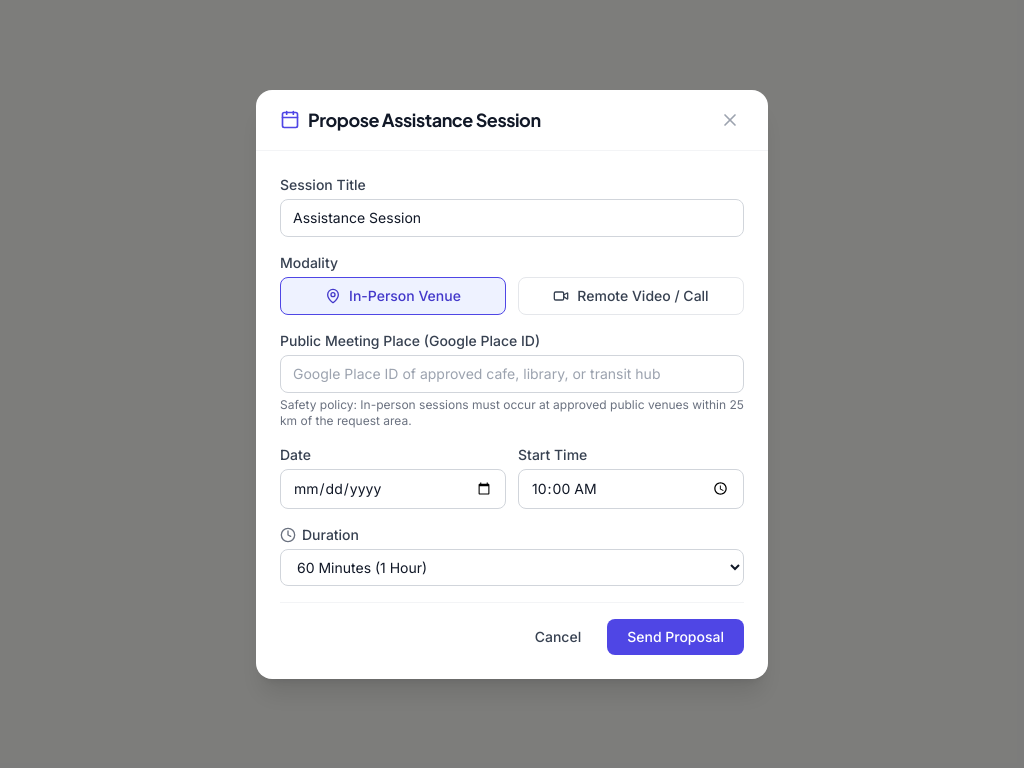
Test: Phase 14 — Sessions and Availability Frontend Components › 11. ProposeSessionModal enforces HTTPS meeting URL for remote modality
// Switch to Remote
Click the button "Remote Video / Call" at (631, 296), box top-left (518, 276), bottom-right (744, 314)
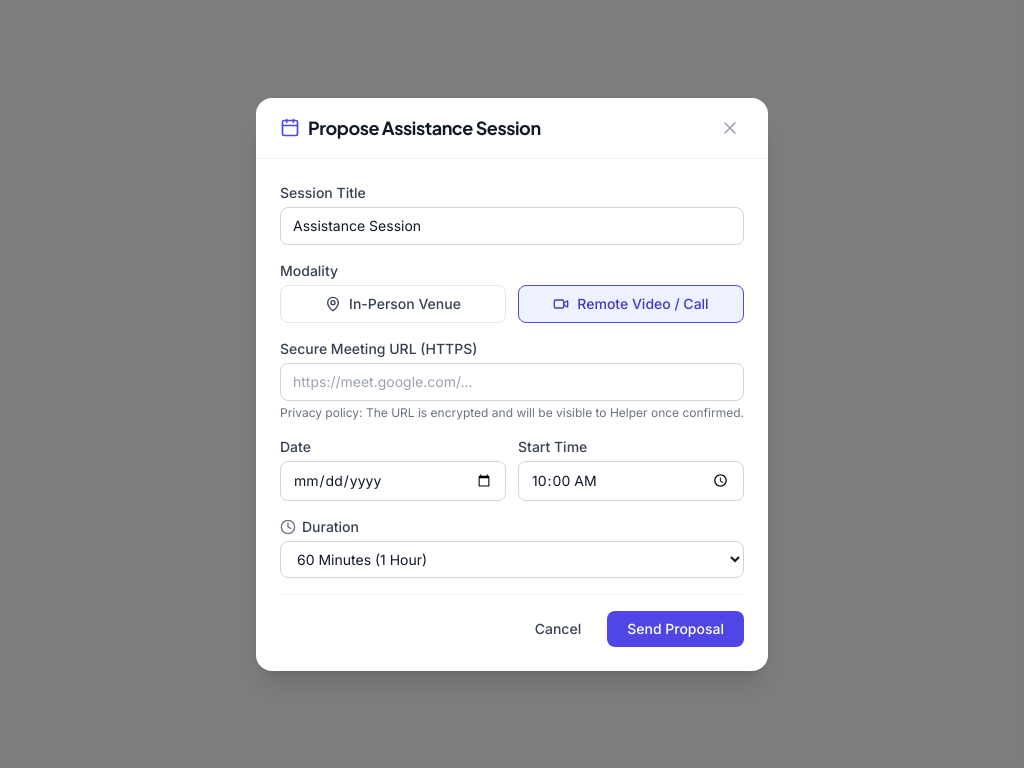
Type "2027-05-15" into the date field labelled "Date" at (393, 480), box top-left (280, 460), bottom-right (506, 500)
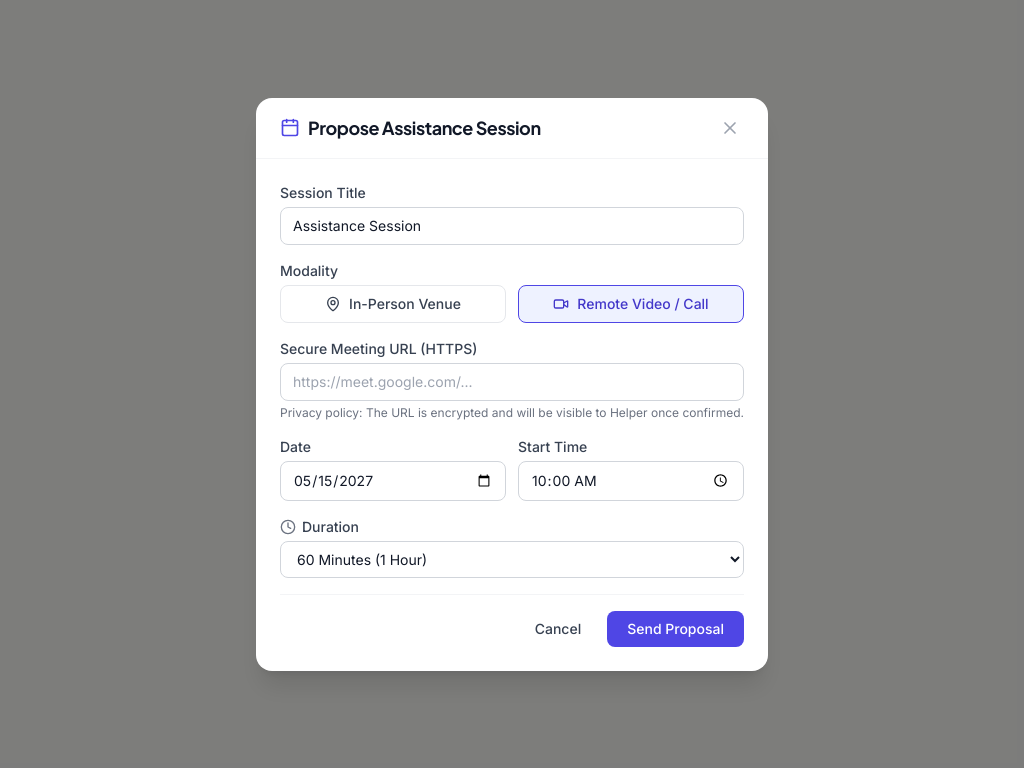
Type "http://insecure.test/meet" into the field with placeholder "https://meet.google.com/..." at (512, 382), box top-left (280, 362), bottom-right (744, 400)
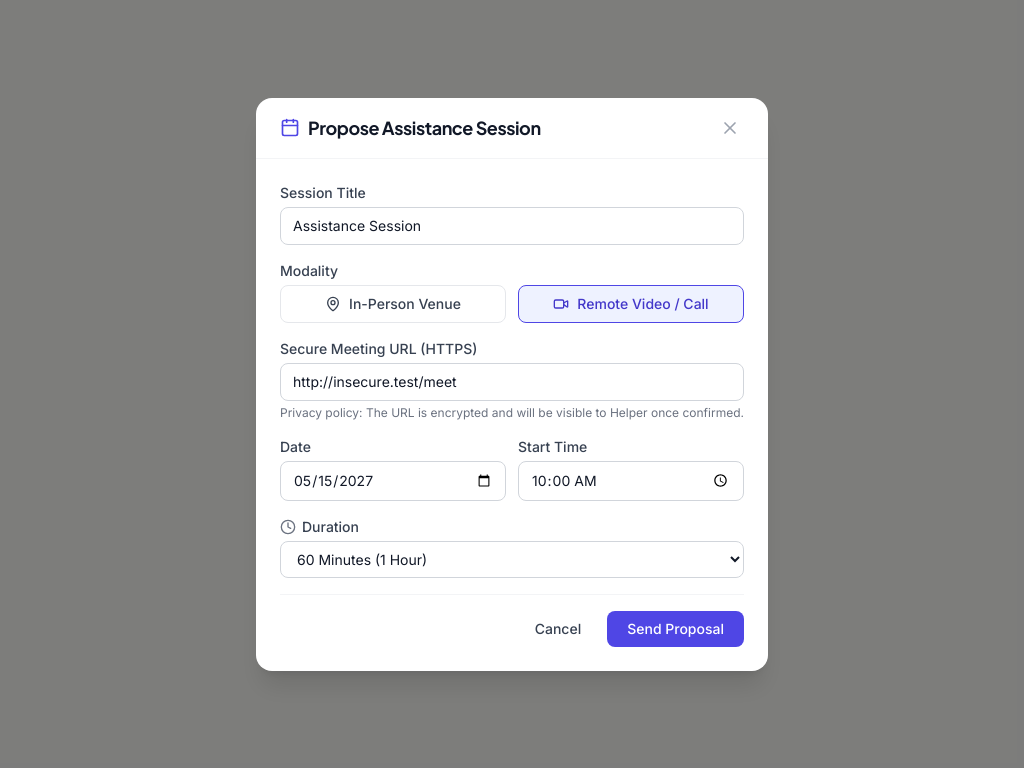
Click the button "Send Proposal" at (676, 628), box top-left (607, 610), bottom-right (744, 646)
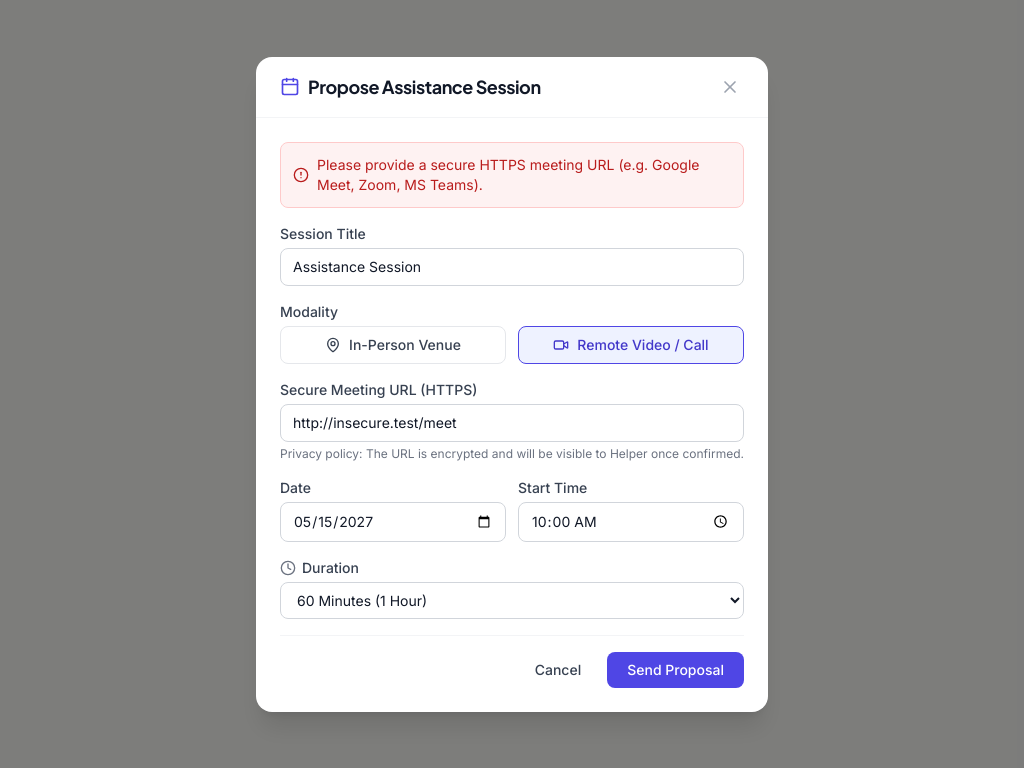
Now the text "Please provide a secure HTTPS meeting URL" is shown, box top-left (317, 156), bottom-right (700, 192)
